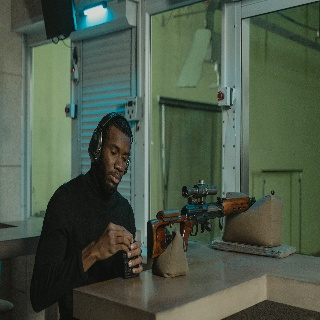rifle: (146, 178, 276, 258)
